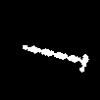half_double_crochet: (23, 45, 88, 71)
